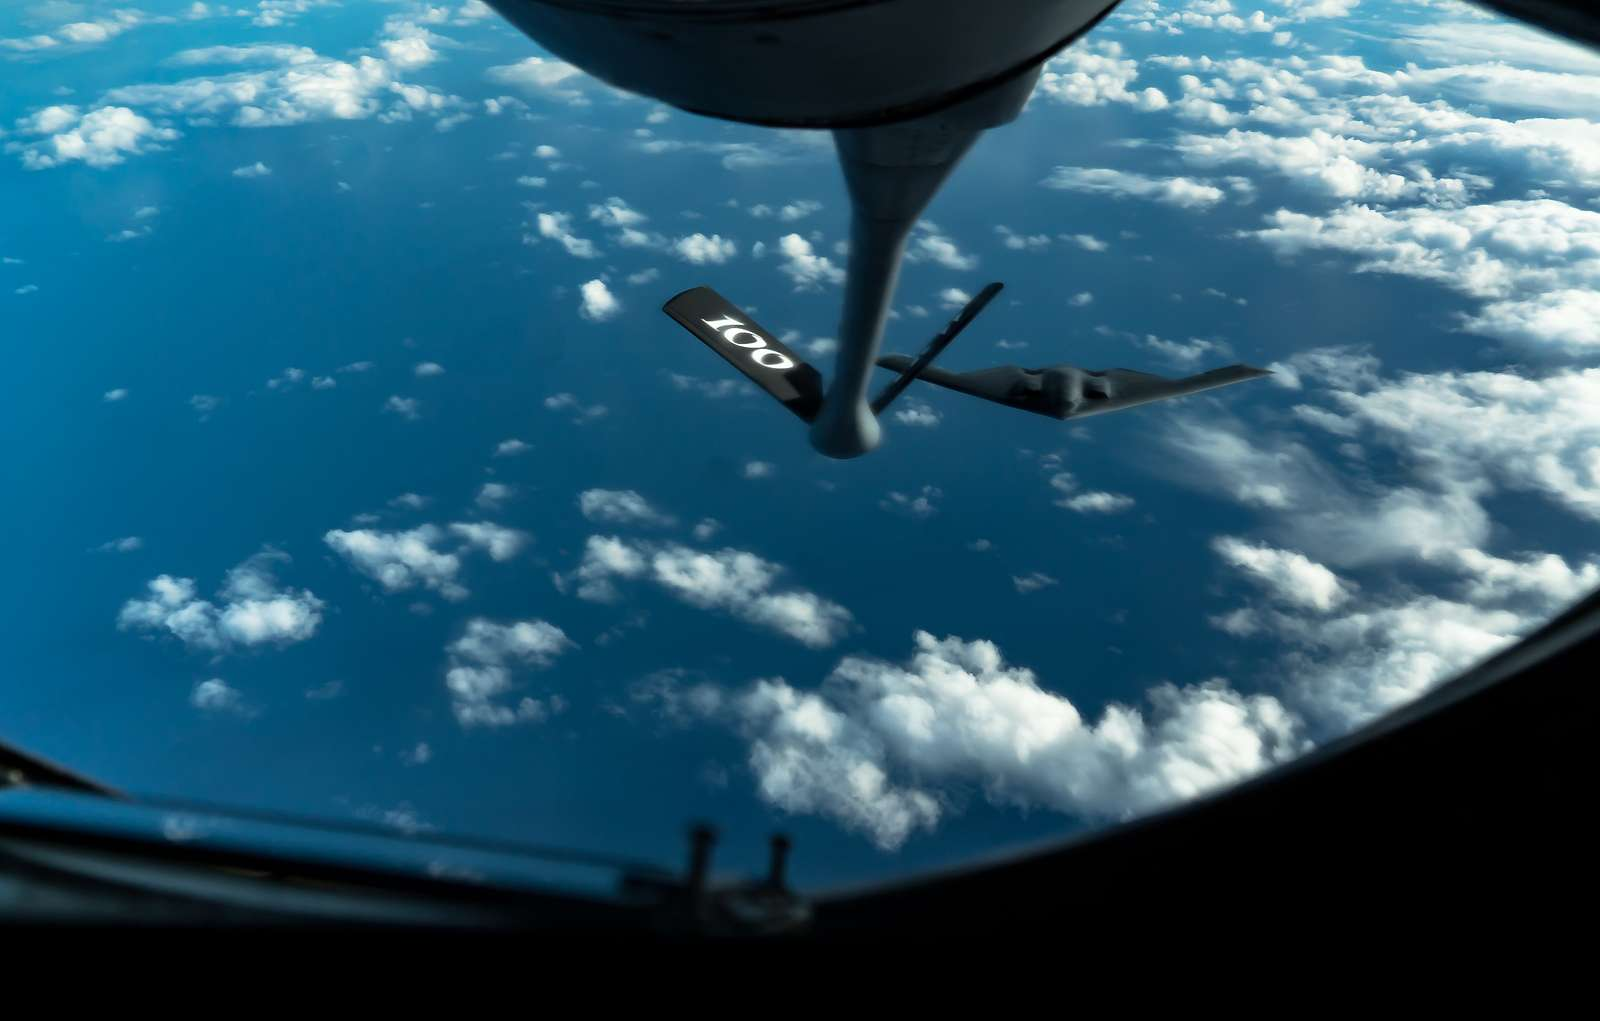B2: (873, 352, 1279, 422)
